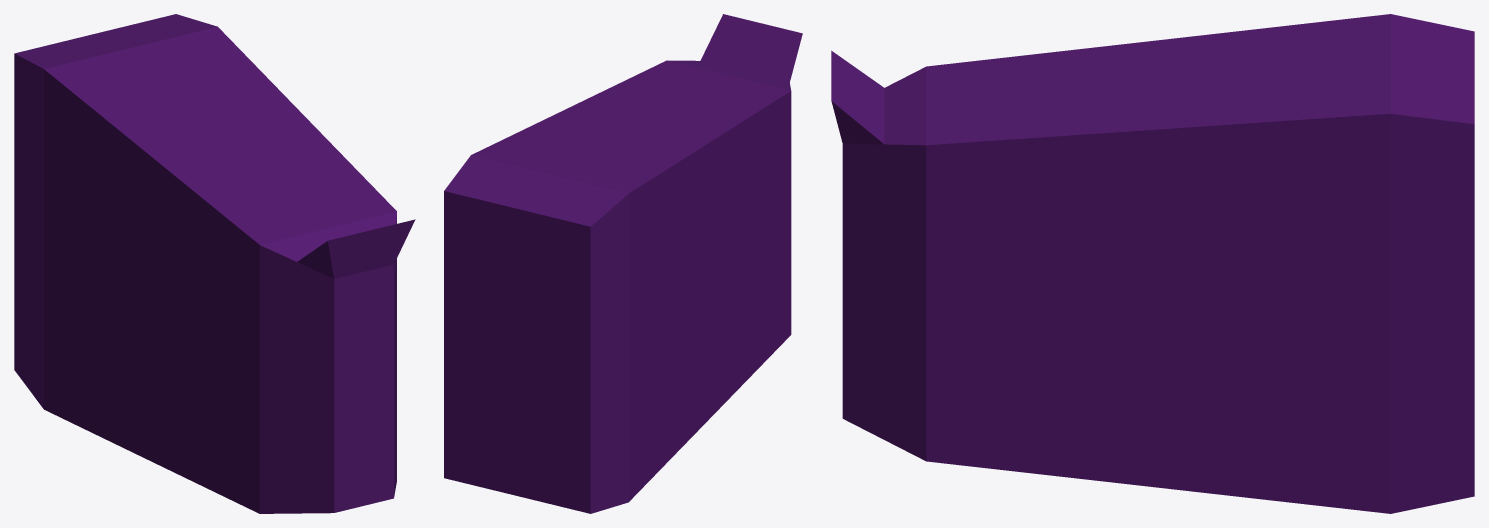
The model's file is WholeWheatFlourBag.obj.
The picture shows the model from 3 angles, left to right: view 1: azimuth 30°, elevation 25°; view 2: azimuth 150°, elevation 25°; view 3: azimuth 270°, elevation 25°; orthographic projection. The views are drawn at different scales.
Parts seen in each view (by area): view 1: bag.000_bag.001; view 2: bag.000_bag.001; view 3: bag.000_bag.001.
Boxes of the visible parts, bbox=[...] form: bag.000_bag.001: bbox=[14, 14, 415, 513]; bag.000_bag.001: bbox=[444, 14, 802, 513]; bag.000_bag.001: bbox=[831, 14, 1474, 513].
Bounding box in the file's own units: 0.1101 × 0.2059 × 0.2999.
